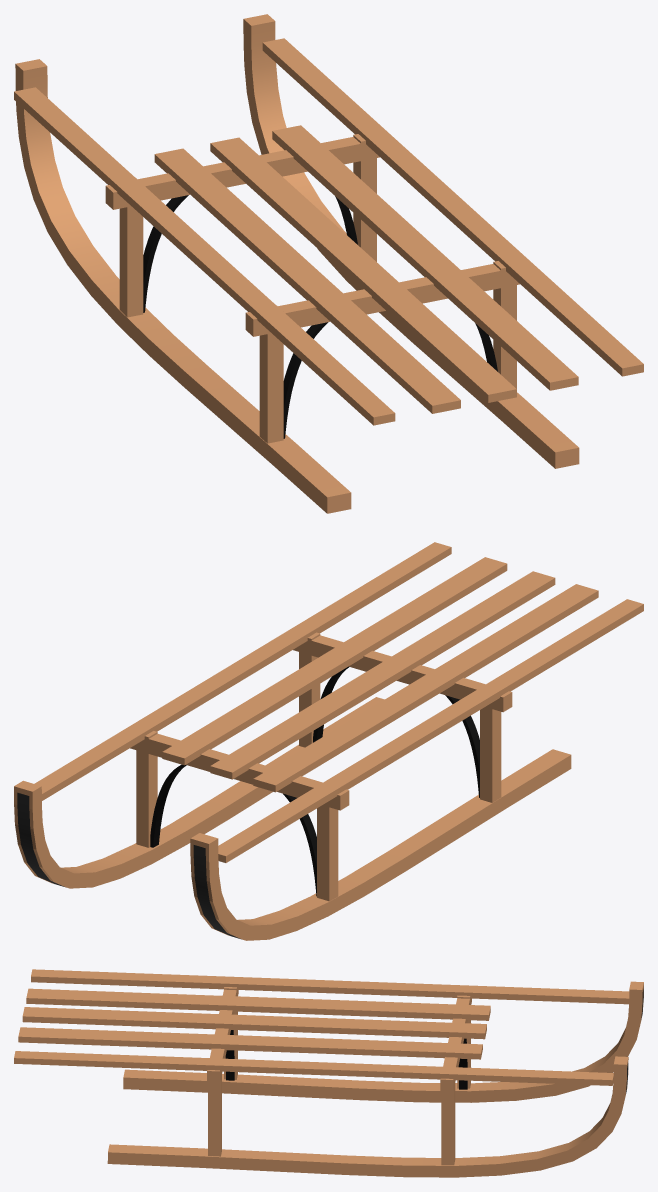
The model's file is Sled.obj.
3 renders of one model, top to bottom at view 1: azimuth 30°, elevation 25°; view 2: azimuth 150°, elevation 25°; view 3: azimuth 270°, elevation 25°, orthographic. The views are drawn at different scales.
Parts seen in each view (by area): view 1: Box20186, Line005, Box20180, Box20182, Box20189, Box20188, Box20179, Box20187, Box20183, Box20193, Box20190; view 2: Box20186, Line005, Box20180, Box20182, Box20189, Box20179, Box20188, Box20187, Box20192, Box20183, Box20190, Box20193; view 3: Box20186, Line005, Box20180, Box20187, Box20183, Box20182, Box20189.
Boxes of the visible parts, bbox=[...] form: Box20186: bbox=[154, 125, 578, 413]; Line005: bbox=[15, 14, 579, 513]; Box20180: bbox=[14, 38, 643, 425]; Box20182: bbox=[245, 264, 519, 336]; Box20189: bbox=[105, 137, 379, 209]; Box20188: bbox=[119, 178, 143, 317]; Box20179: bbox=[259, 305, 283, 443]; Box20187: bbox=[353, 134, 376, 261]; Box20183: bbox=[493, 261, 516, 388]; Box20193: bbox=[143, 195, 188, 312]; Box20190: bbox=[283, 322, 328, 438]; Box20186: bbox=[162, 557, 598, 792]; Line005: bbox=[14, 697, 571, 940]; Box20180: bbox=[34, 542, 643, 862]; Box20182: bbox=[293, 635, 512, 712]; Box20189: bbox=[130, 733, 349, 810]; Box20179: bbox=[480, 703, 501, 802]; Box20188: bbox=[317, 802, 338, 901]; Box20187: bbox=[136, 731, 157, 847]; Box20192: bbox=[150, 764, 186, 847]; Box20183: bbox=[299, 632, 320, 747]; Box20190: bbox=[445, 695, 479, 797]; Box20193: bbox=[283, 793, 316, 896]; Box20186: bbox=[18, 988, 490, 1059]; Line005: bbox=[107, 981, 643, 1177]; Box20180: bbox=[14, 969, 629, 1085]; Box20187: bbox=[441, 1080, 455, 1165]; Box20183: bbox=[208, 1075, 221, 1156]; Box20182: bbox=[207, 989, 238, 1083]; Box20189: bbox=[440, 998, 471, 1092].
Bounding box in the file's own units: 13671 × 6937 × 32835.
